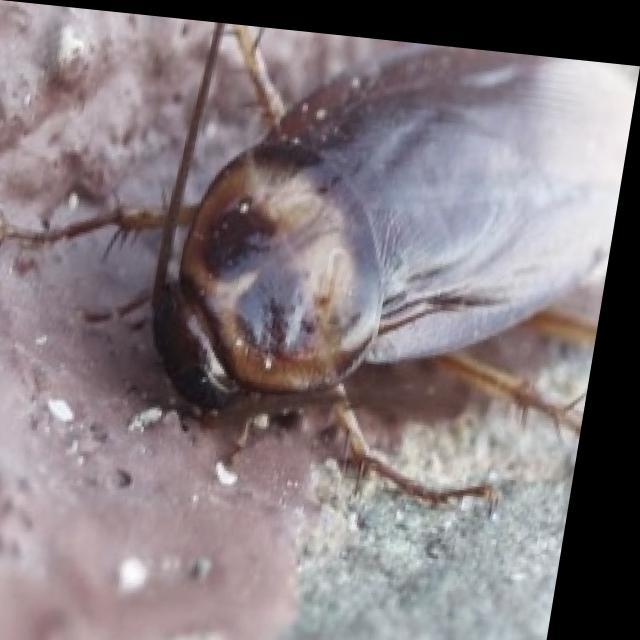cockroach: (119, 67, 639, 453)
